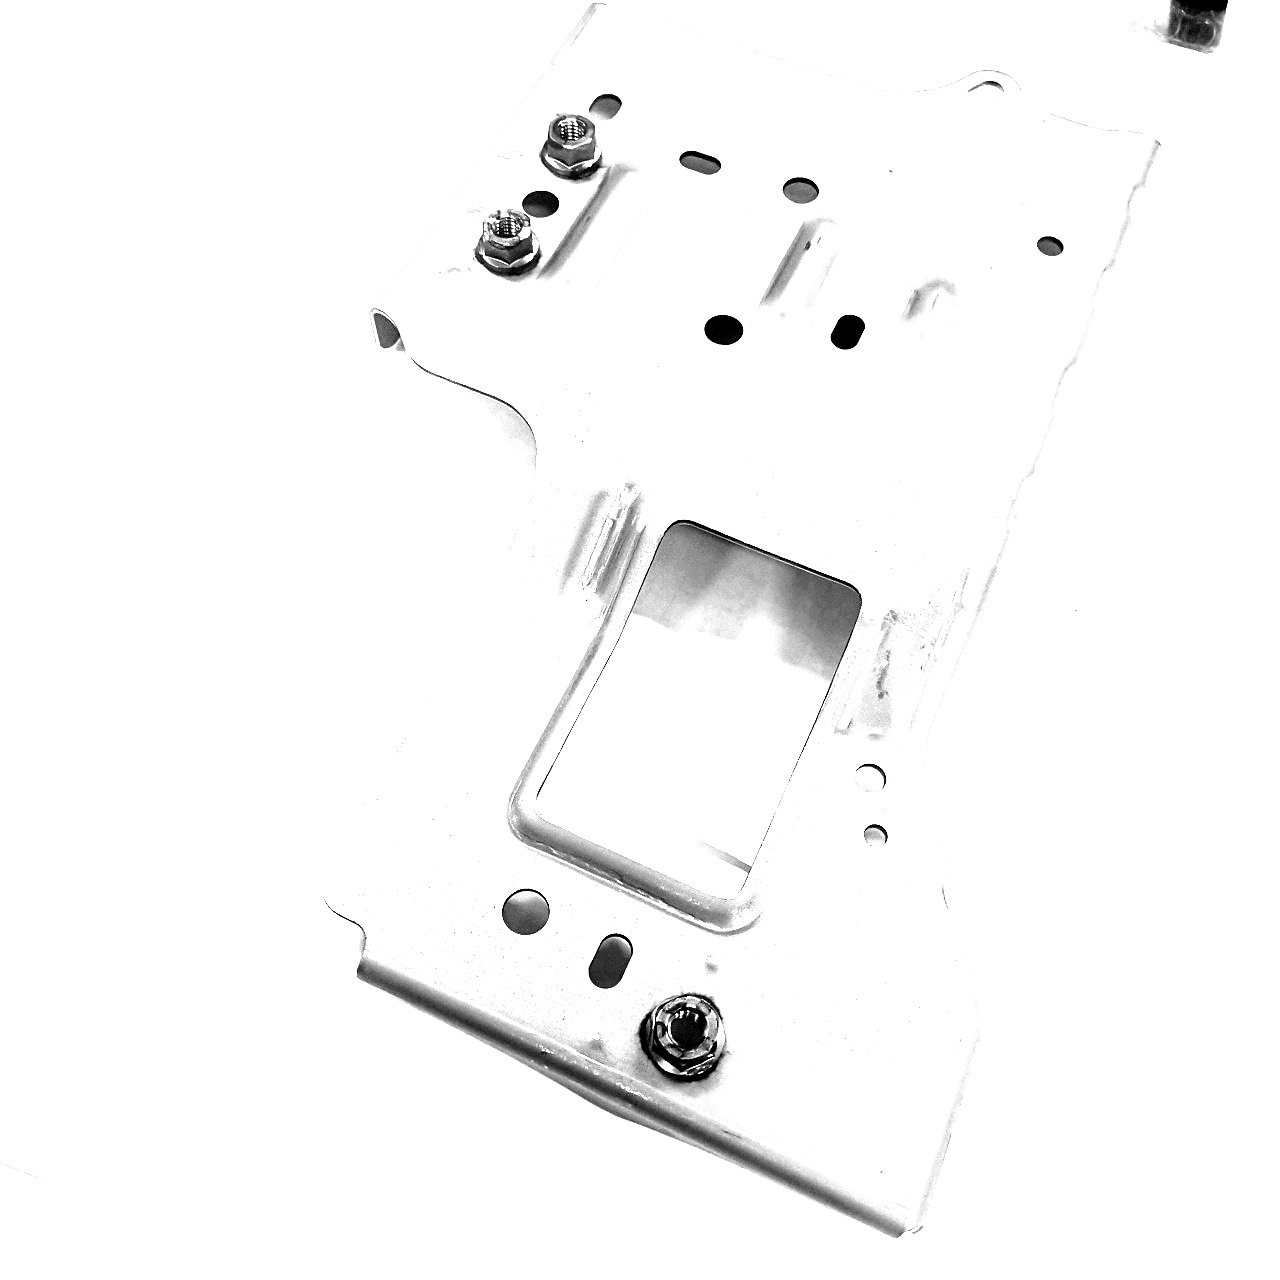dog: (636, 986, 730, 1088), (467, 204, 544, 284), (536, 108, 608, 184)
